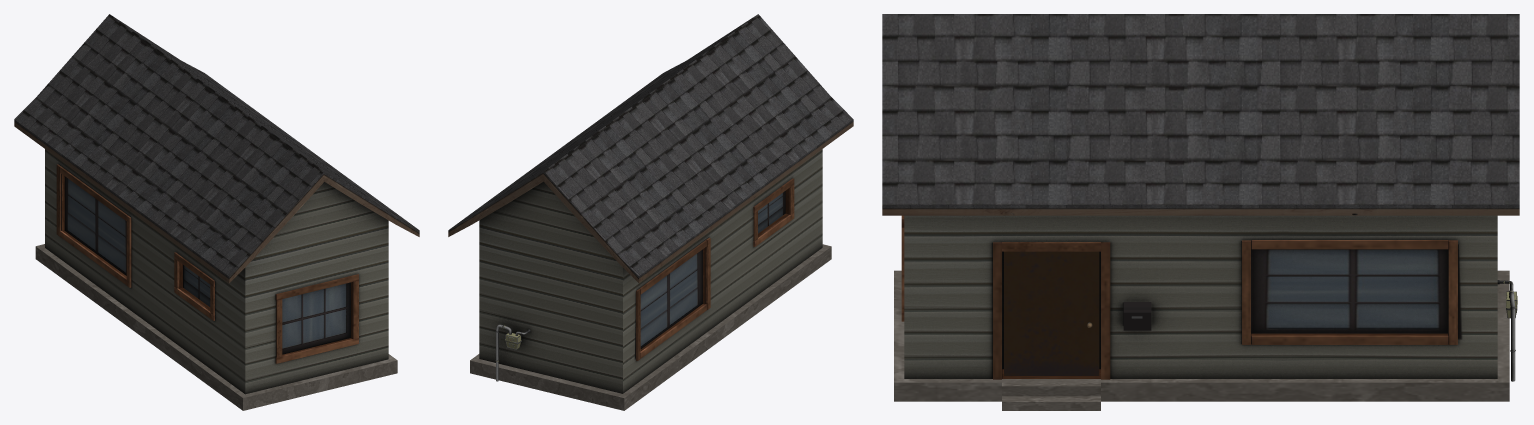
The picture shows the model from 3 angles, left to right: view 1: azimuth 30°, elevation 25°; view 2: azimuth 150°, elevation 25°; view 3: azimuth 270°, elevation 25°; orthographic projection. The views are drawn at different scales.
Parts seen in each view (by area): view 1: House_Joined; view 2: House_Joined; view 3: House_Joined.
Part boxes in pixels (x1,y1,x2,y2): House_Joined: (14,14,419,410); House_Joined: (448,14,853,410); House_Joined: (882,14,1519,410).
Size of the model in its own units: 6.59 by 7.39 by 12.87.
1 material, 1 textured.
